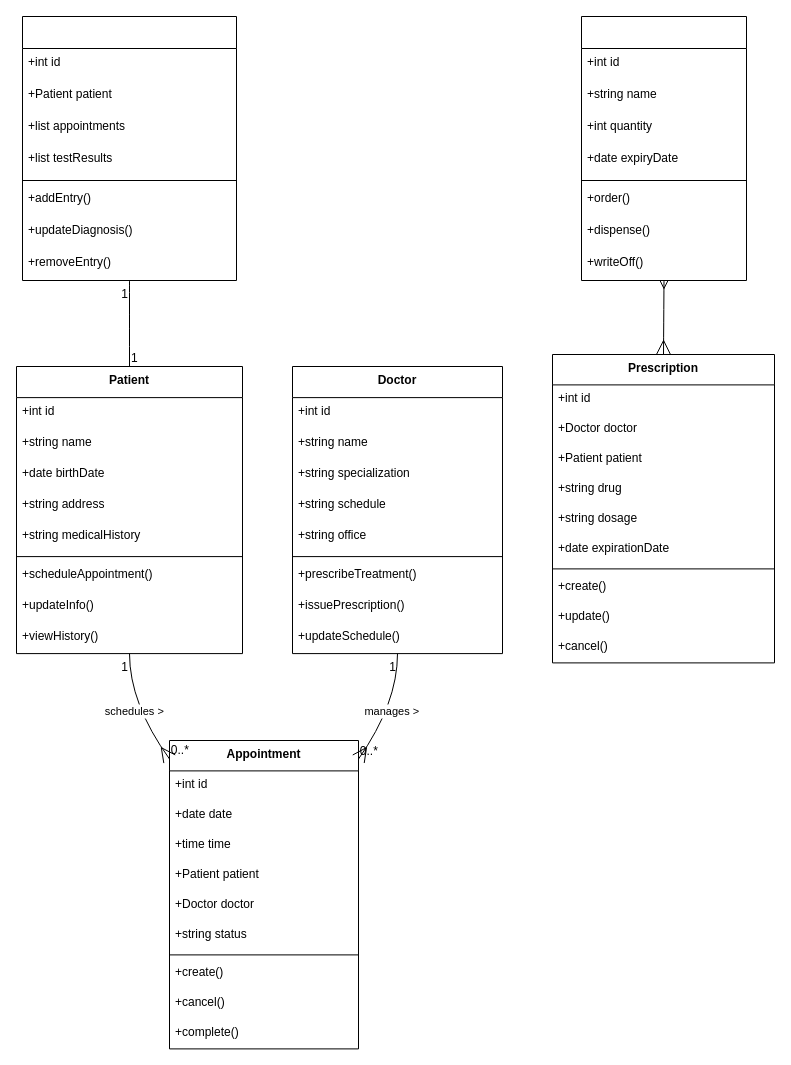
Some shapes in this 791 by 1065 pixel diagram are drawn without their labels. The shapes that lost their labels are listed below. From the top down, each one's box as (x1, y1, x2, y2) in pixels, then its label:
(22, 16, 236, 280): MedicalRecord
(580, 16, 746, 280): Drug
